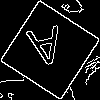A: (25, 25, 68, 77)
